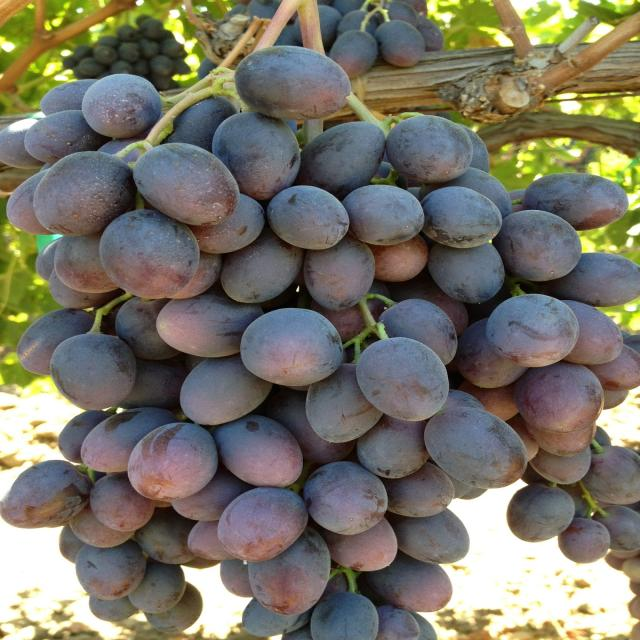Grapes: (10, 6, 640, 640), (77, 84, 448, 476)
